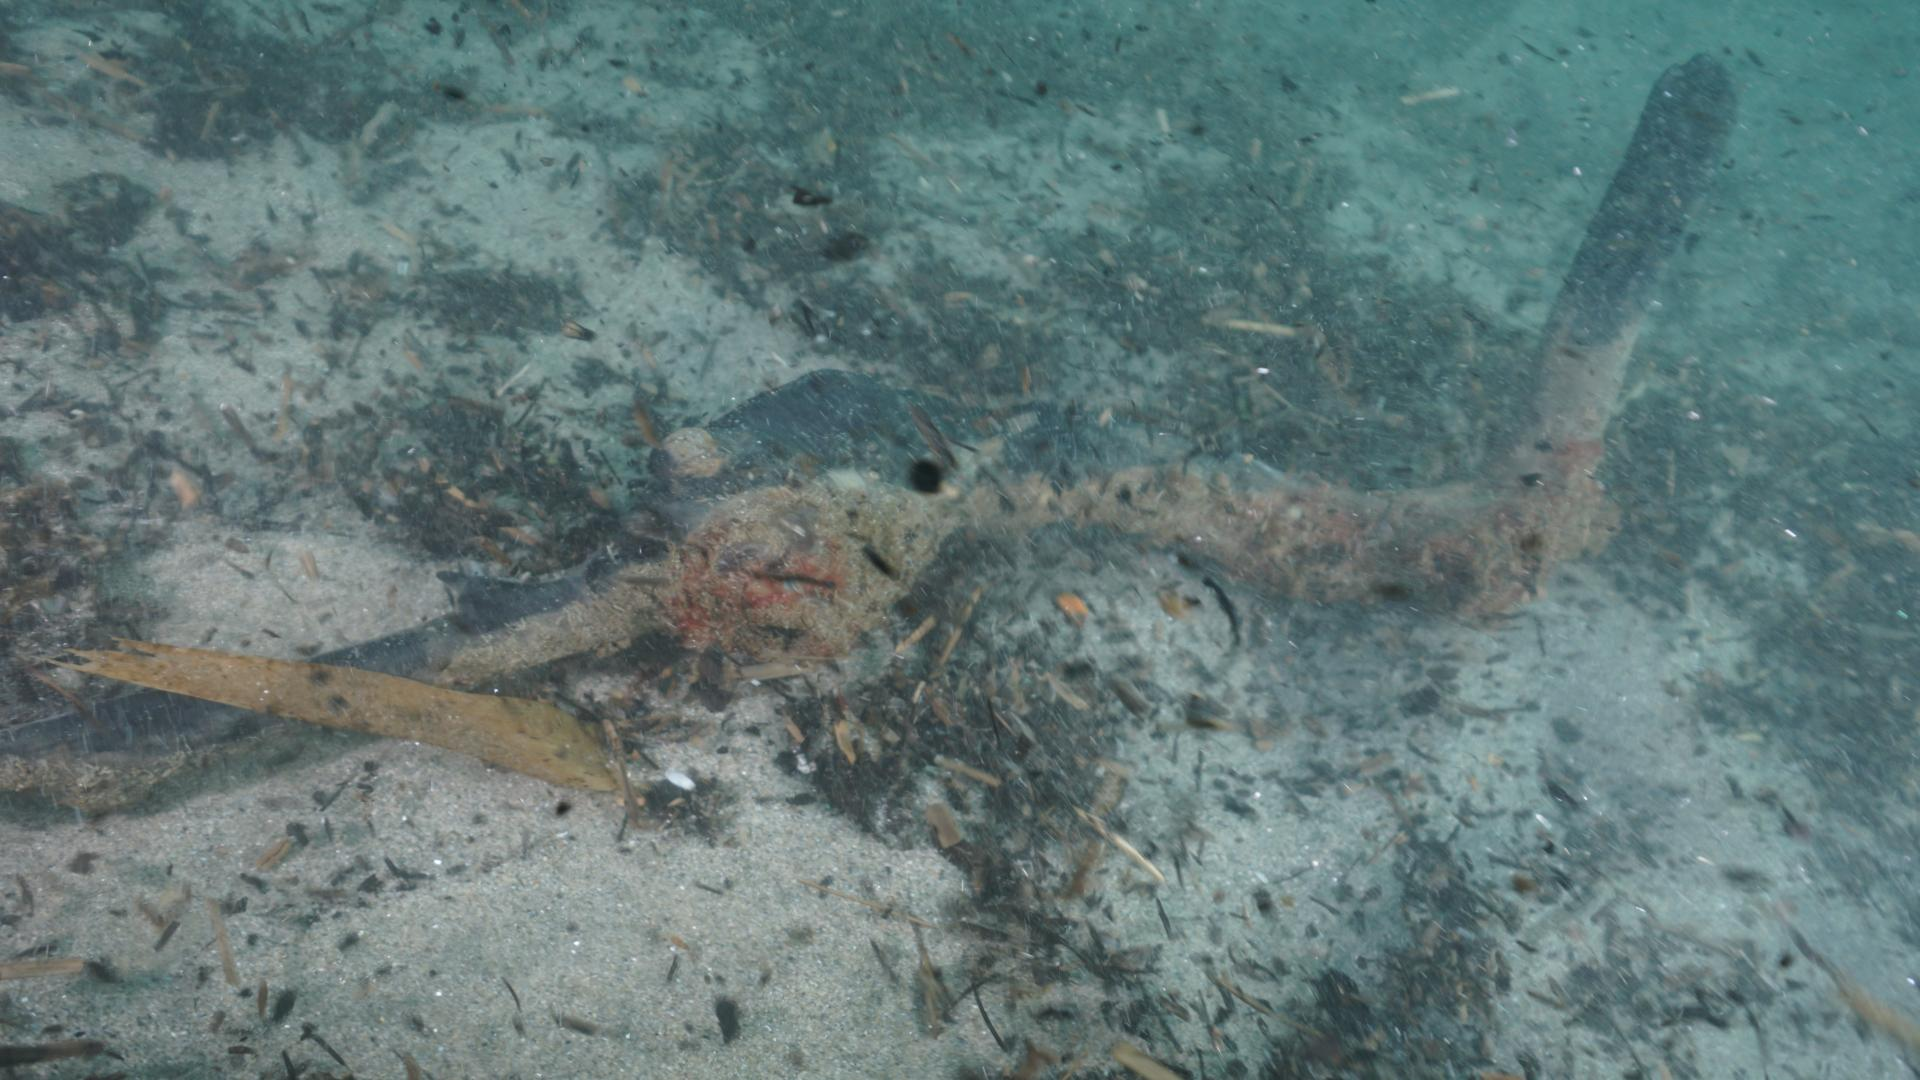wood: (440, 50, 1742, 688), (44, 634, 620, 795)
